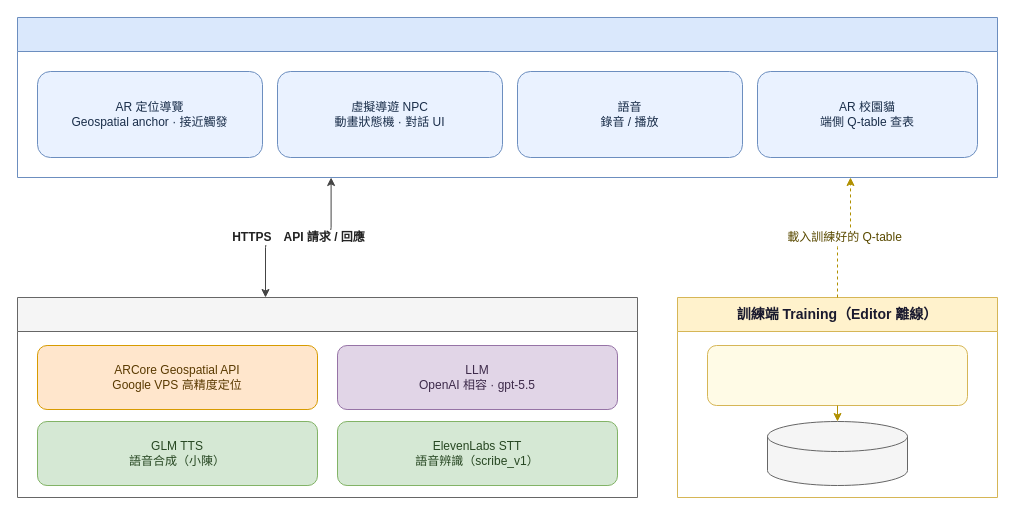
Some shapes in this 1015 by 515 pixel diagram are drawn without their labels. The shapes that lost their labels are listed below. From the top down, each one's box as (x1, y1, x2, y2) in pixels, then its label:
(16, 16, 998, 178): 手機端 Client（iOS / Android） Unity 6 · AR Foundation · ARCore Extensions
(706, 344, 968, 406): Q-Learning 訓練 32 狀態 × 3 動作 · 1300 episodes
(16, 296, 638, 498): 雲端服務 Cloud Services
(766, 420, 908, 486): cat_qtable.json
